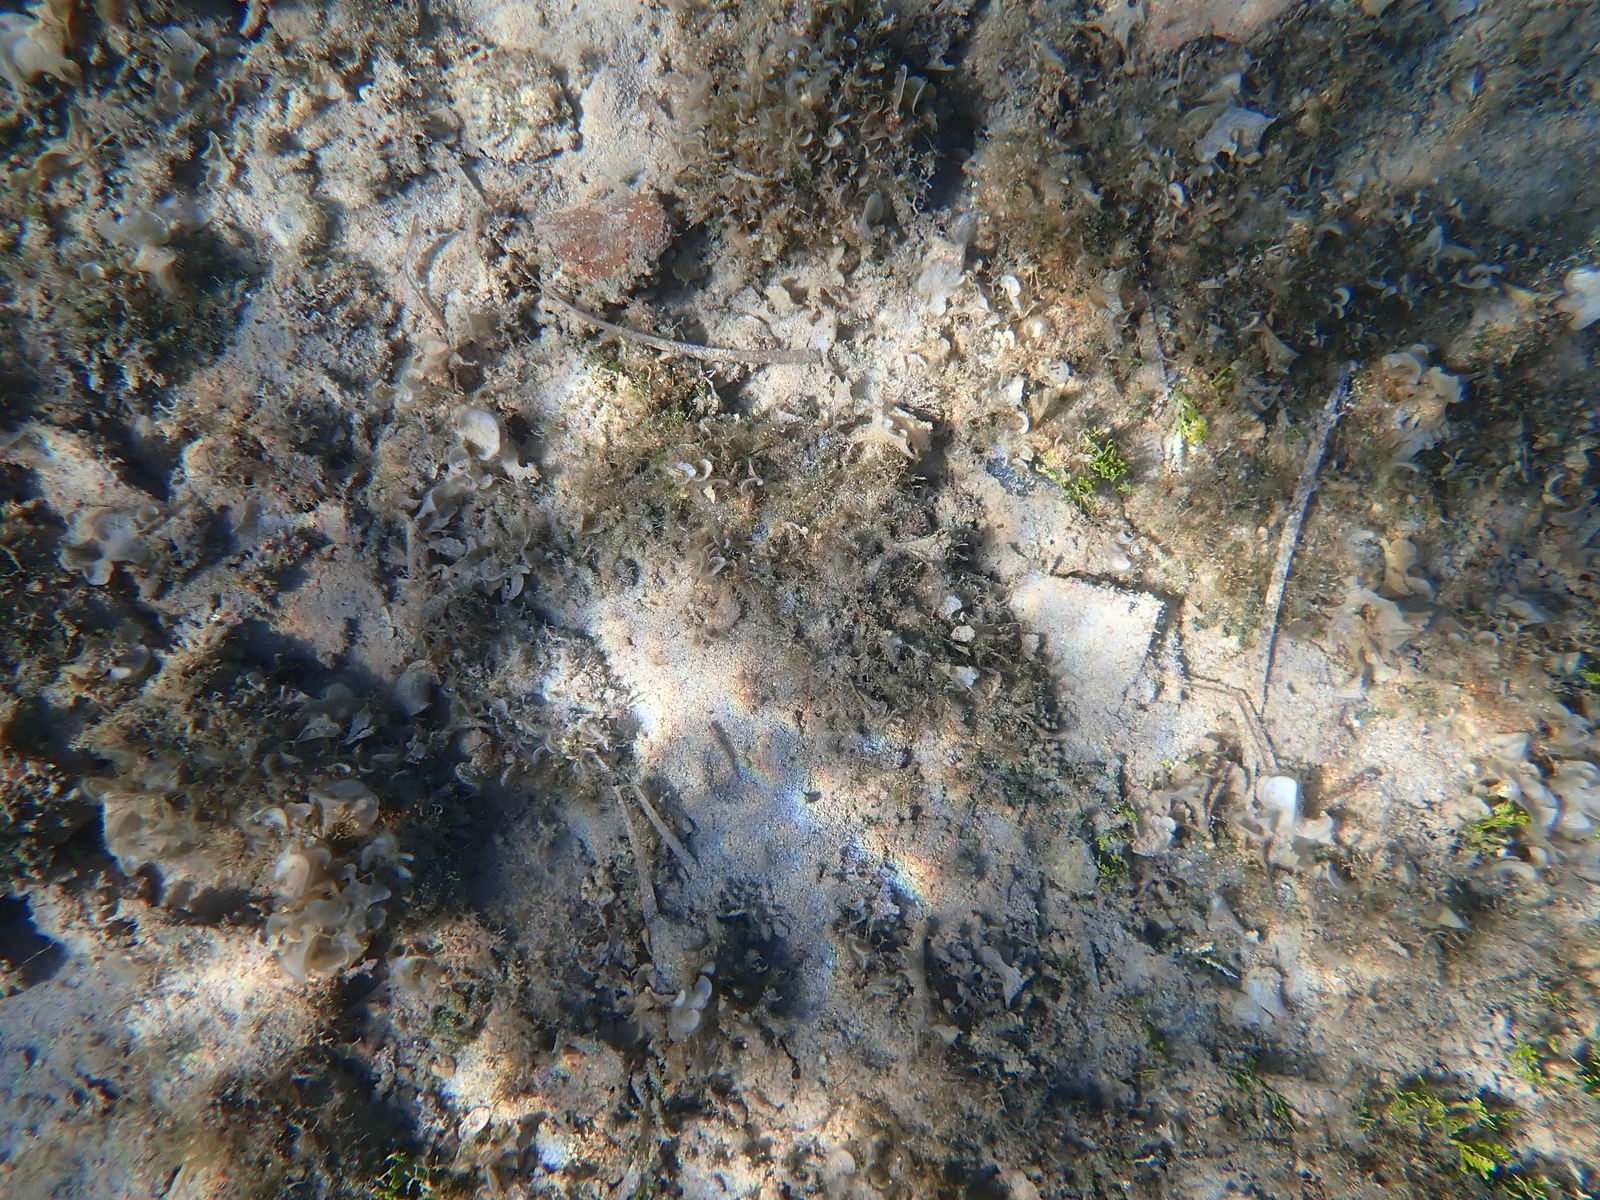halimeda: (1448, 1134, 1516, 1179), (1385, 1094, 1463, 1131), (1451, 1098, 1519, 1129), (1175, 387, 1209, 442), (1497, 1174, 1561, 1200), (1454, 821, 1507, 848), (1509, 1041, 1543, 1084), (1095, 850, 1128, 889), (1255, 1078, 1285, 1117), (1092, 456, 1131, 480), (1070, 476, 1095, 513), (1222, 1063, 1254, 1092), (1489, 800, 1527, 824), (1141, 1021, 1167, 1056), (1209, 367, 1233, 403), (1041, 463, 1065, 490), (1540, 986, 1566, 1007), (1083, 429, 1101, 458), (1358, 1098, 1372, 1129), (1115, 805, 1140, 821), (1095, 832, 1111, 851), (1584, 671, 1600, 689), (1111, 829, 1136, 841), (1117, 480, 1136, 494), (1123, 1070, 1162, 1076), (1073, 812, 1086, 826), (1547, 1037, 1558, 1053), (1105, 439, 1114, 458), (1186, 758, 1199, 766), (1128, 359, 1140, 366), (1048, 453, 1054, 463), (1419, 1075, 1424, 1084), (1163, 761, 1170, 766)
